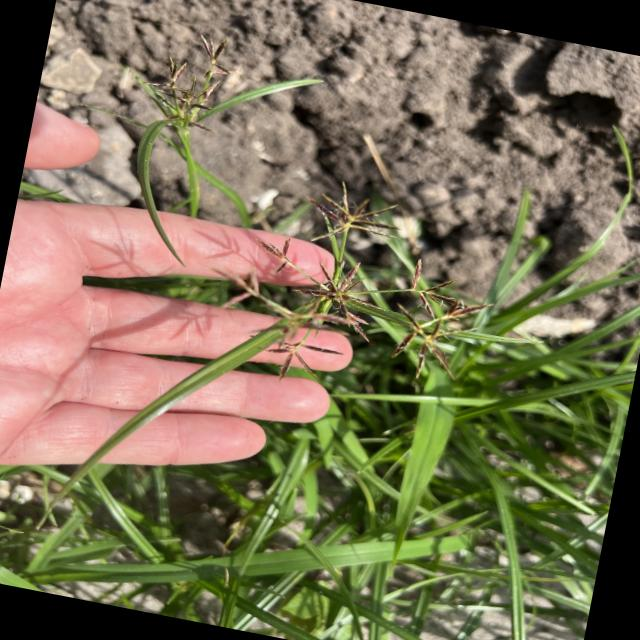cyperus: (213, 154, 510, 408), (121, 10, 255, 146)
